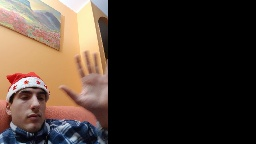Mano_aperta: (56, 48, 108, 109)
